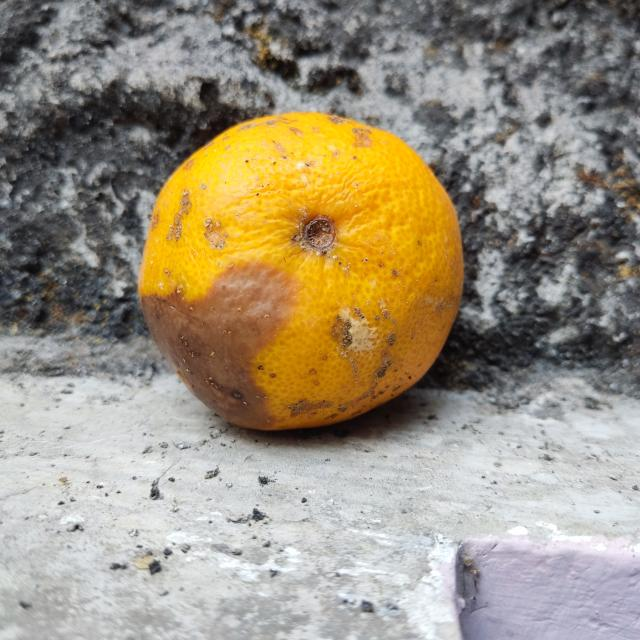orange: (138, 108, 466, 434)
